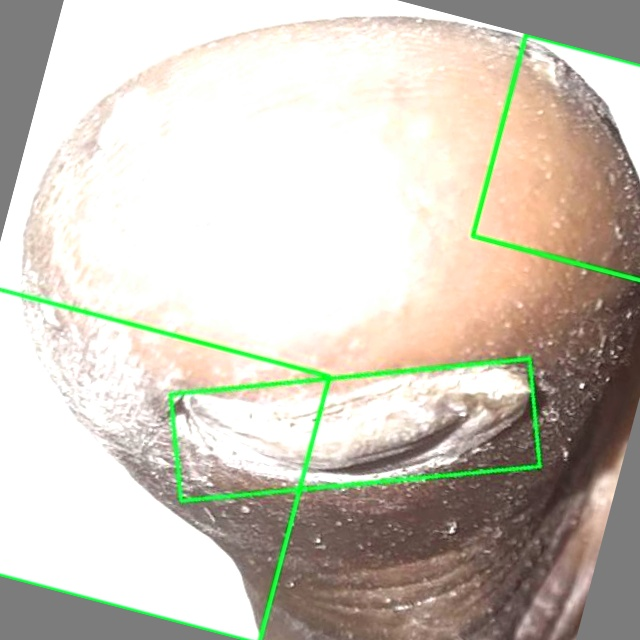Contact Dermatitis: (0, 289, 329, 639), (170, 358, 539, 500), (473, 35, 639, 280)
